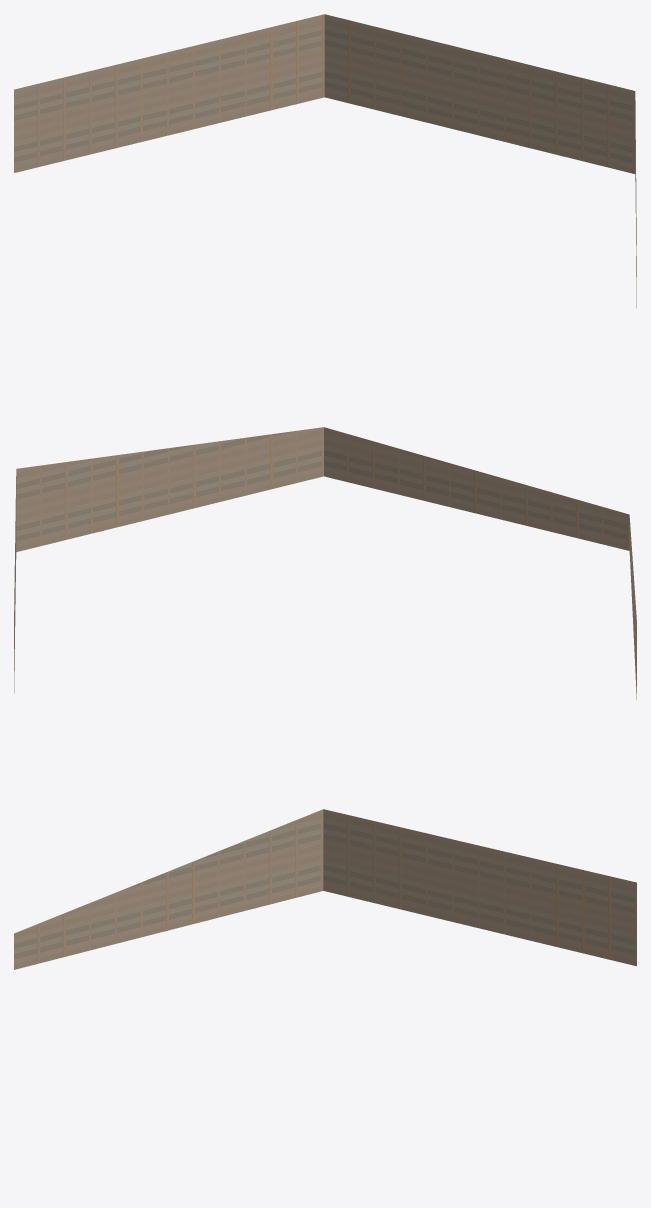
Rendered from kd_stage_135ebf_3_31.glb.
3 renders of one model, top to bottom at view 1: azimuth 30°, elevation 25°; view 2: azimuth 150°, elevation 25°; view 3: azimuth 270°, elevation 25°, orthographic.
Parts seen in each view (by area): view 1: kd_stage_135ebf_3_31; view 2: kd_stage_135ebf_3_31; view 3: kd_stage_135ebf_3_31.
Boxes of the visible parts, x1,y1,x2,y2 form: kd_stage_135ebf_3_31: [14, 14, 636, 308]; kd_stage_135ebf_3_31: [14, 427, 636, 699]; kd_stage_135ebf_3_31: [14, 809, 636, 969].
Size of the model in its own units: 19.04 by 2.46 by 16.55.
Materials: 1 (1 with a texture image).
